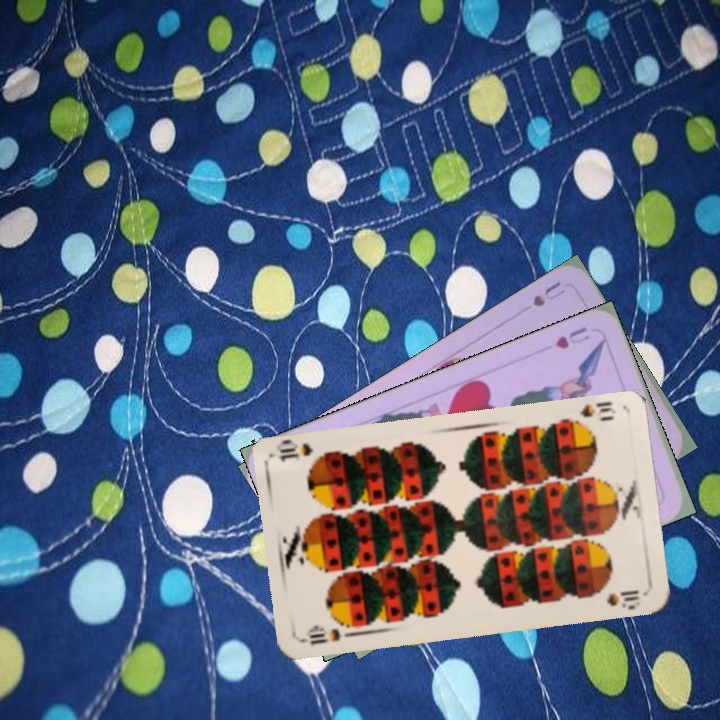HU: (551, 322, 593, 352)
S10: (564, 398, 618, 430), (299, 622, 343, 647)
SU: (529, 277, 568, 310)
